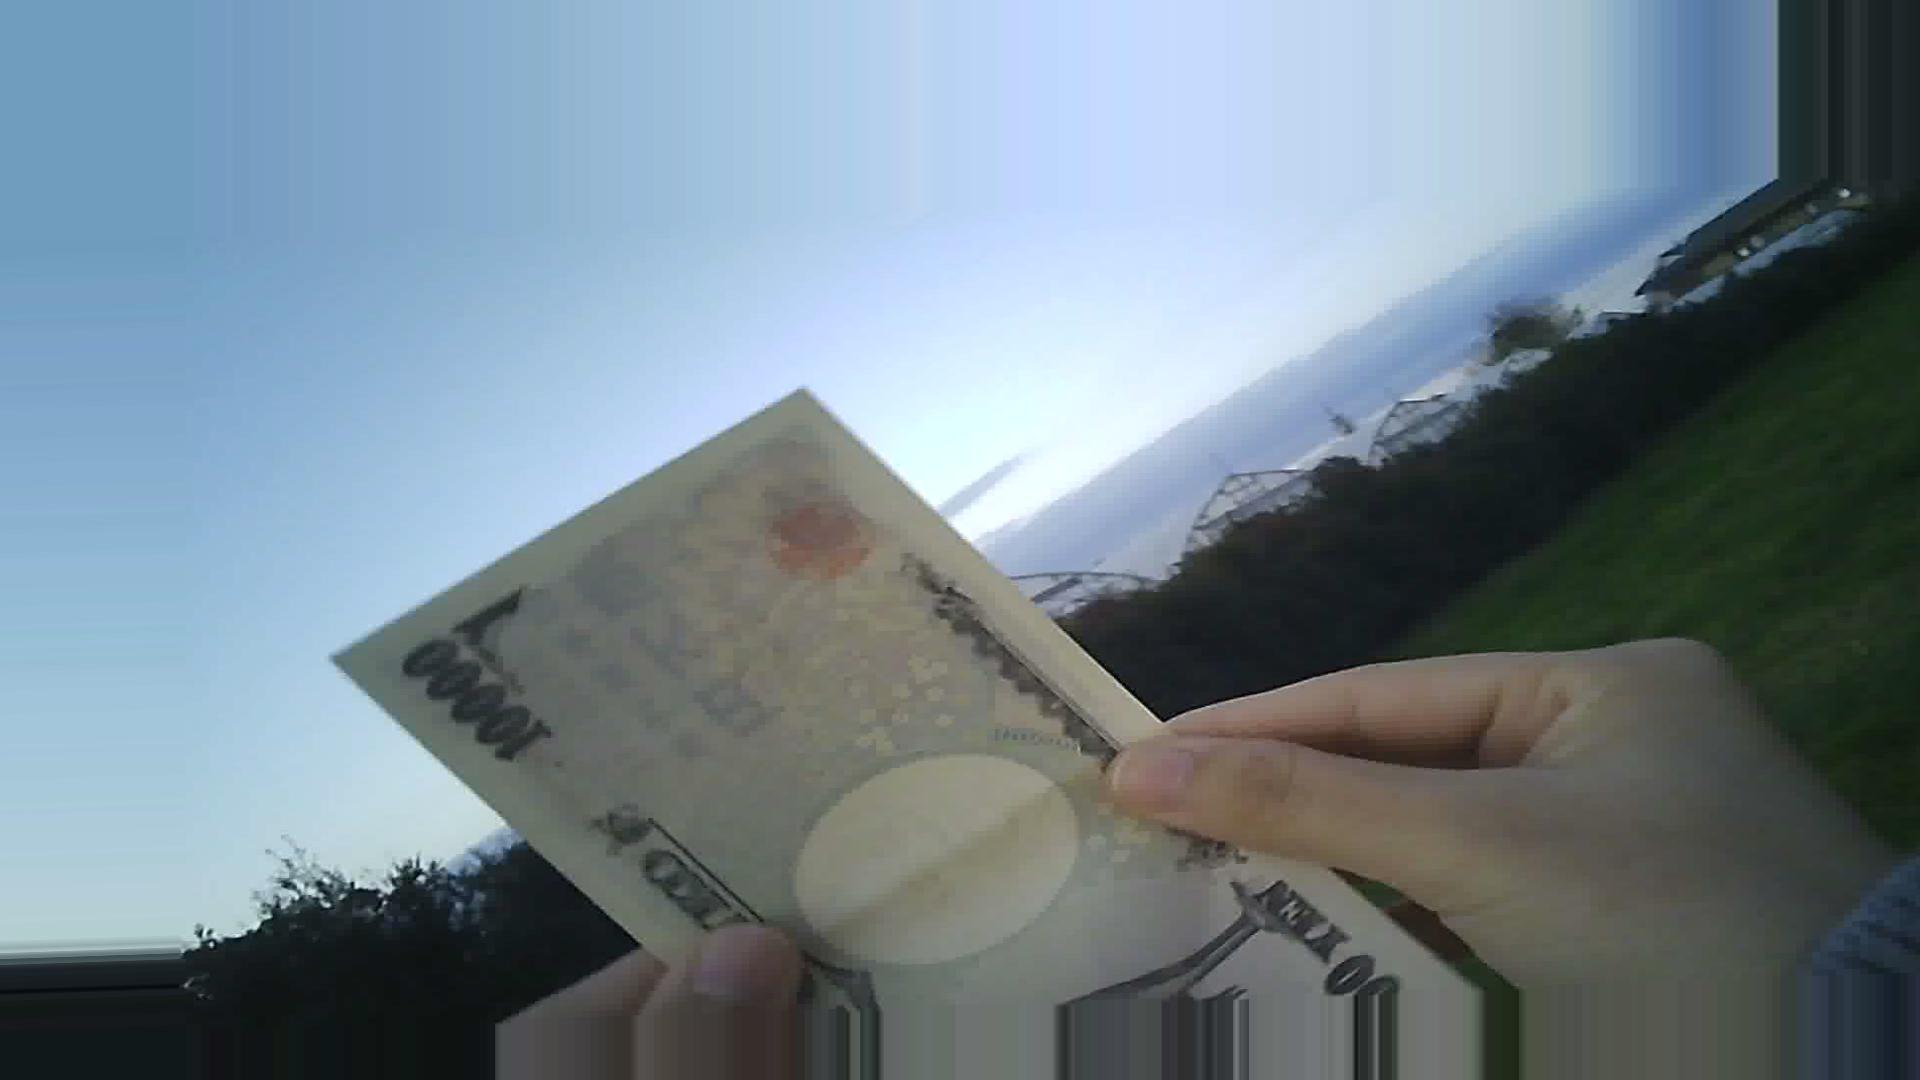10,000 Yen: (347, 396, 1514, 1017)
